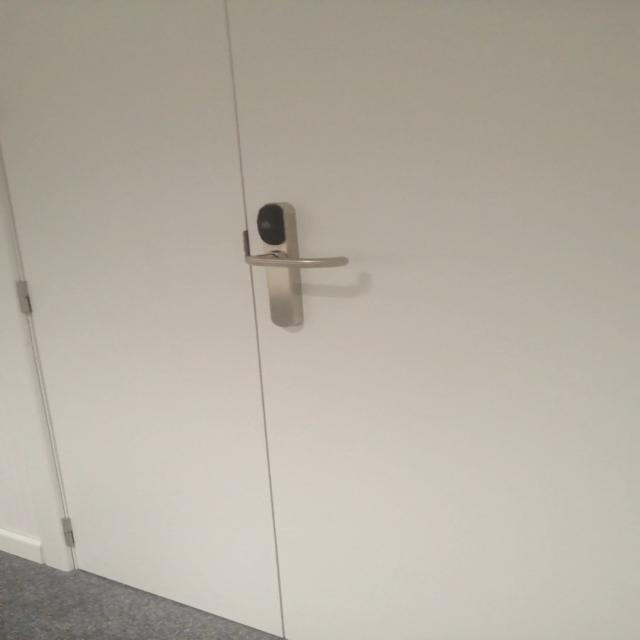door_handle: (241, 248, 358, 271)
